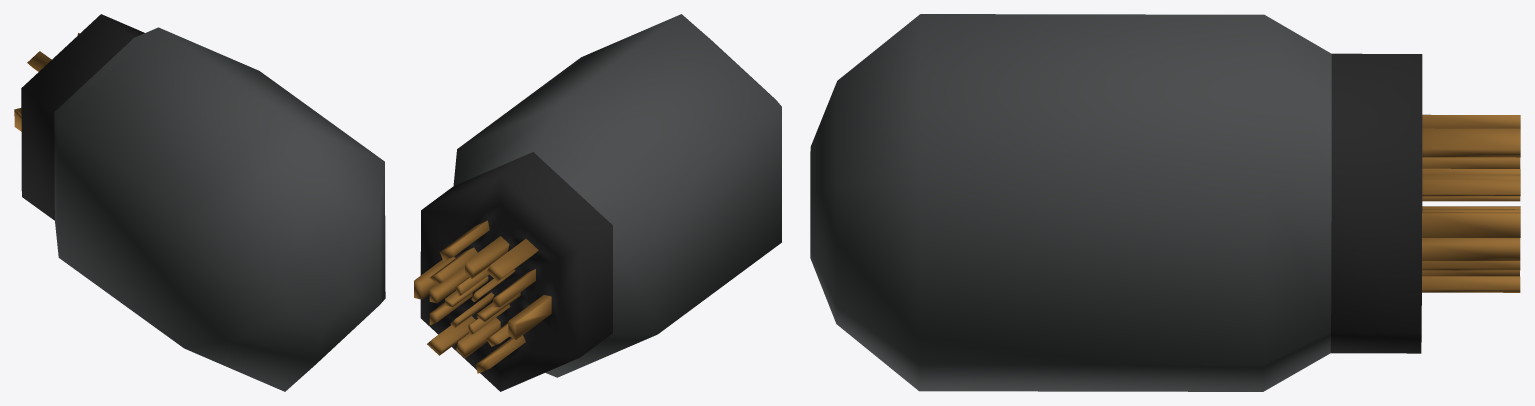
The model's file is Elektronenröhre.fbx.
The picture shows the model from 3 angles, left to right: view 1: azimuth 30°, elevation 25°; view 2: azimuth 150°, elevation 25°; view 3: azimuth 270°, elevation 25°; orthographic projection. The views are drawn at different scales.
Visible parts, largest first — view 1: Elektronenröhre.001; view 2: Elektronenröhre.001; view 3: Elektronenröhre.001.
Part boxes in pixels (bbox=[...]): Elektronenröhre.001: bbox=[14, 14, 385, 391]; Elektronenröhre.001: bbox=[414, 14, 781, 391]; Elektronenröhre.001: bbox=[810, 14, 1520, 391].
Size of the model in its own units: 3.18 by 4.12 by 7.03.
